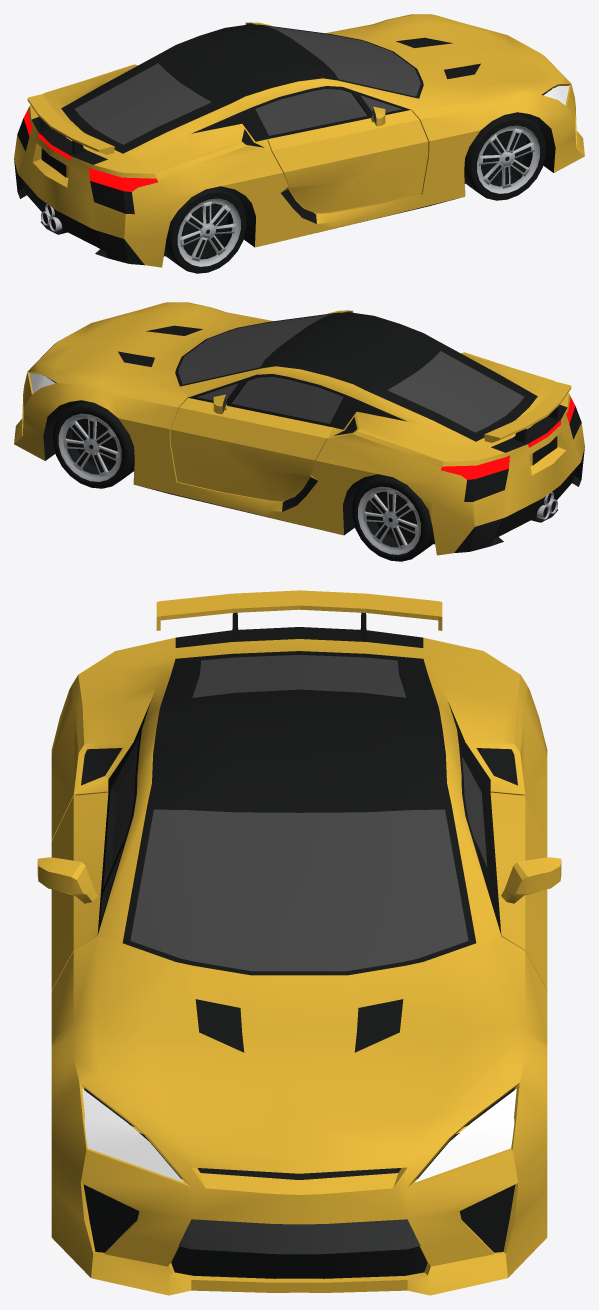
The model's file is lfa.glb.
The picture shows the model from 3 angles, top to bottom: view 1: azimuth 30°, elevation 25°; view 2: azimuth 150°, elevation 25°; view 3: azimuth 270°, elevation 25°; orthographic projection. The views are drawn at different scales.
Parts seen in each view (by area): view 1: body, rim.001, rim.003; view 2: body, rim, rim.002; view 3: body.
Boxes of the visible parts, <box> form: body: <box>14,14,584,267</box>; rim.001: <box>464,112,545,200</box>; rim.003: <box>164,186,246,273</box>; body: <box>14,302,584,555</box>; rim: <box>52,400,134,488</box>; rim.002: <box>352,474,434,561</box>; body: <box>37,590,561,1295</box>.
Bounding box in the file's own units: 9.58 × 2.66 × 4.28.
3 materials, 1 textured.
